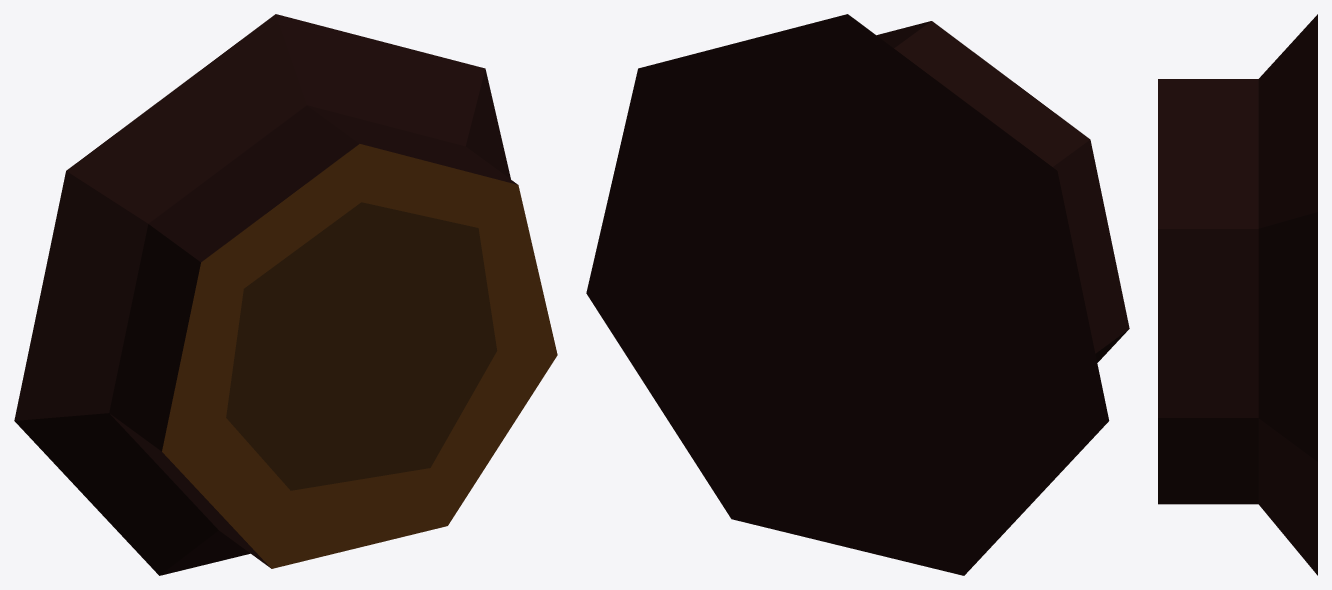
3 views of the same model, side by side, from view 1: azimuth 30°, elevation 25°; view 2: azimuth 150°, elevation 25°; view 3: azimuth 270°, elevation 25° (orthographic). The views are drawn at different scales.
Parts seen in each view (by area): view 1: forest30_1; view 2: forest30_1; view 3: forest30_1.
Part boxes in pixels (left/top/right/bottom): forest30_1: left=14, top=14, right=557, bottom=575; forest30_1: left=586, top=14, right=1129, bottom=575; forest30_1: left=1158, top=14, right=1317, bottom=575.
Size of the model in its own units: 120 by 33.25 by 117.
